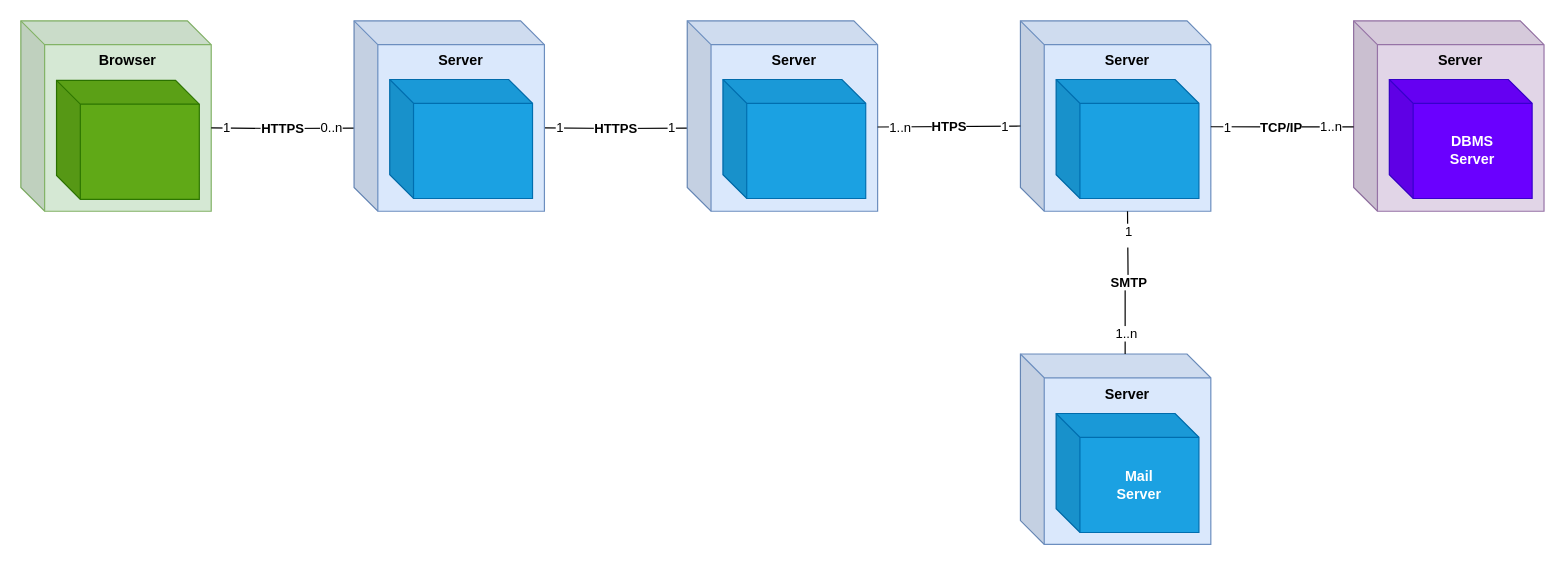
Some shapes in this 1565 by 565 pixel diagram are drawn without their labels. The shapes that lost their labels are listed below. From the top down, each one's box as (x1, y1, x2, y2) in pixels, then its label:
(55, 79, 199, 199): Web App
(389, 78, 533, 198): Firewall
(722, 78, 866, 198): Web Server
(1055, 78, 1199, 198): Application Server
